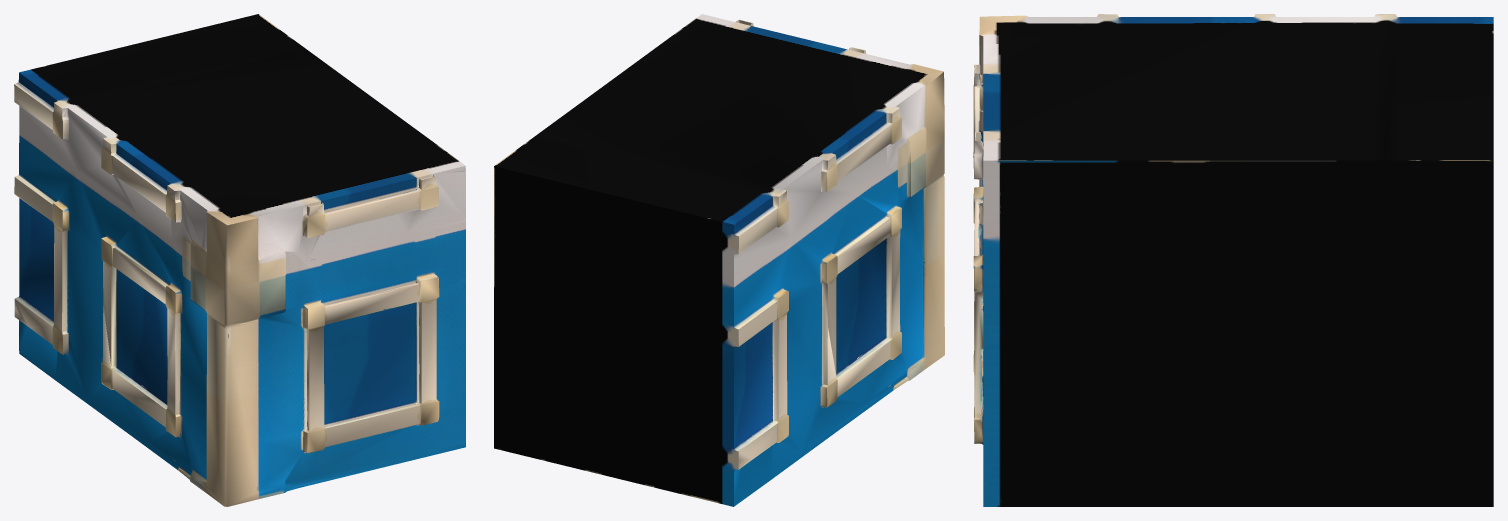
File: 5-upper-walls-front-left.fbx
The picture shows the model from 3 angles, left to right: view 1: azimuth 30°, elevation 25°; view 2: azimuth 150°, elevation 25°; view 3: azimuth 270°, elevation 25°; orthographic projection. The views are drawn at different scales.
Visible parts, largest first — view 1: upper-walls-front-left; view 2: upper-walls-front-left; view 3: upper-walls-front-left.
Boxes of the visible parts, x1,y1,x2,y2 form: upper-walls-front-left: [14, 14, 465, 506]; upper-walls-front-left: [494, 14, 944, 506]; upper-walls-front-left: [973, 14, 1493, 506].
Bounding box in the file's own units: 4405 × 4835 × 6582.
Materials: 1 (1 with a texture image).
